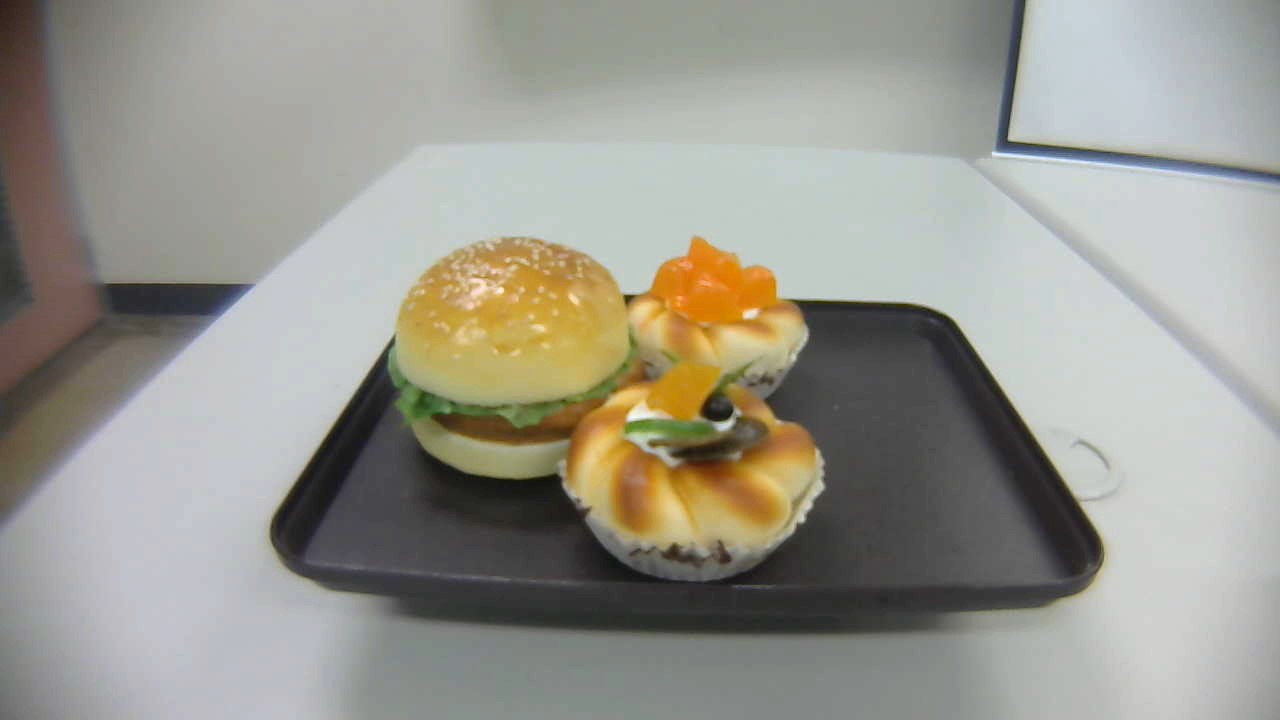fruit tart: (563, 358, 826, 585)
hamburger: (393, 232, 643, 480)
mango tart: (627, 236, 811, 407)
